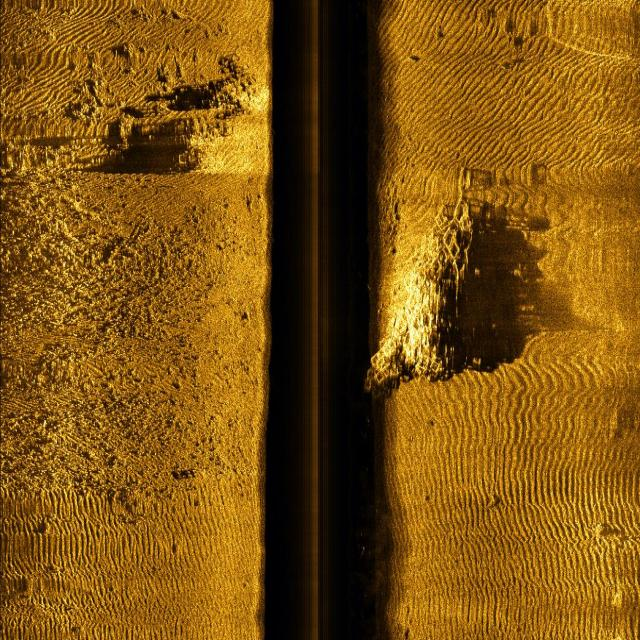artificial reef: (363, 170, 519, 423)
